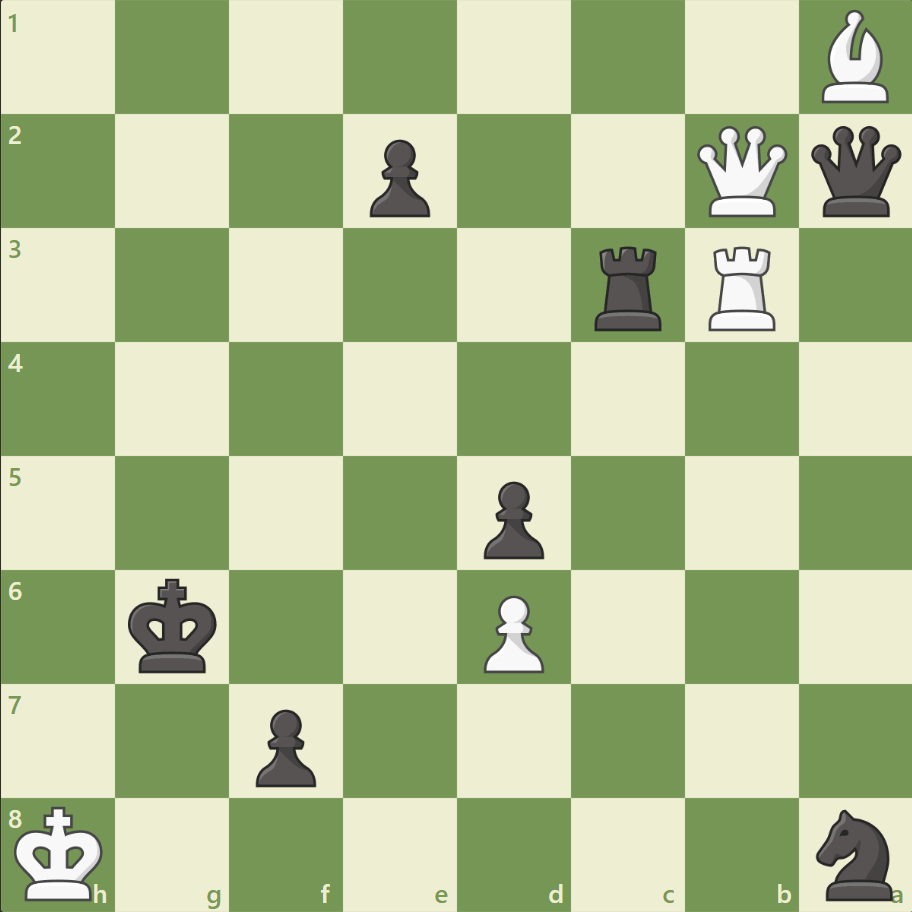B: (812, 6, 896, 109)
K: (11, 798, 111, 906)
P: (474, 586, 549, 677)
Q: (691, 122, 790, 222)
R: (700, 239, 783, 336)
k: (124, 571, 224, 679)
n: (806, 802, 903, 904)
p: (247, 700, 322, 791), (474, 473, 549, 564), (361, 132, 435, 223)
q: (805, 122, 904, 222)
r: (587, 239, 670, 336)
